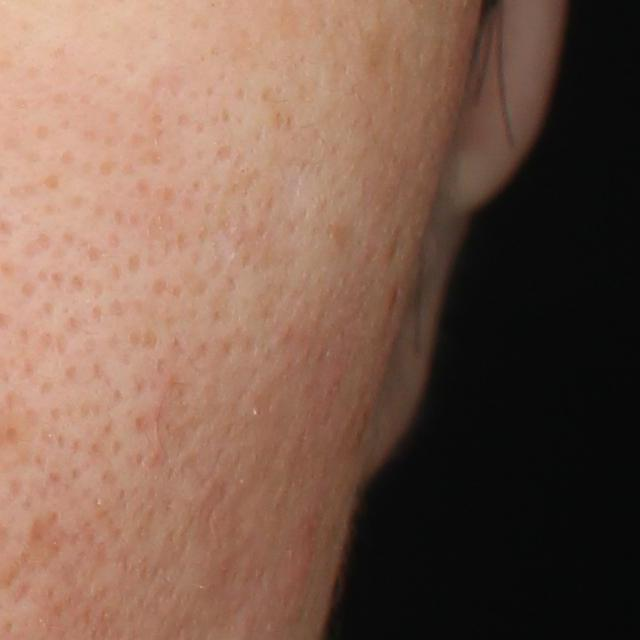atrophic_scar: (0, 508, 74, 593)
